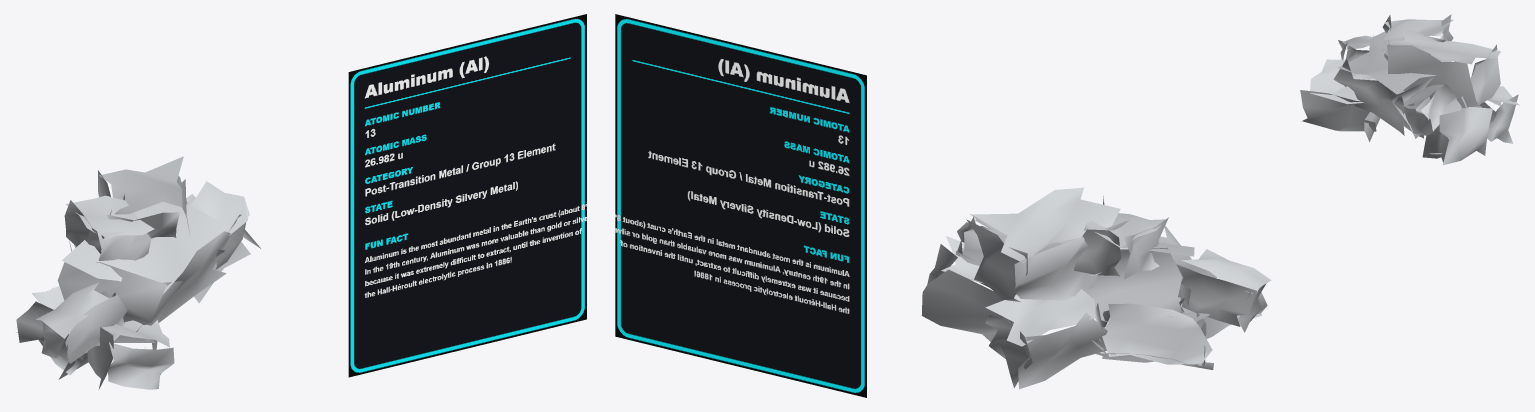
Rendered from aluminum.glb.
3 renders of one model, left to right at view 1: azimuth 30°, elevation 25°; view 2: azimuth 150°, elevation 25°; view 3: azimuth 270°, elevation 25°, orthographic. The views are drawn at different scales.
Parts seen in each view (by area): view 1: Mesh_10, Mesh_0, Mesh_8, Mesh_6, Mesh_2, Mesh_1, Mesh_7, Mesh_4, Mesh_3; view 2: Mesh_10, Mesh_1, Mesh_5, Mesh_4, Mesh_0, Mesh_3, Mesh_8, Mesh_6, Mesh_7, Mesh_2; view 3: Mesh_1, Mesh_0, Mesh_2, Mesh_3, Mesh_7, Mesh_6, Mesh_5, Mesh_8.
Part boxes in pixels (left/top/right/bottom): Mesh_10: left=348, top=14, right=586, bottom=377; Mesh_0: left=57, top=202, right=230, bottom=342; Mesh_8: left=35, top=282, right=127, bottom=363; Mesh_6: left=64, top=194, right=154, bottom=260; Mesh_2: left=87, top=320, right=174, bottom=389; Mesh_1: left=98, top=156, right=189, bottom=238; Mesh_7: left=189, top=181, right=249, bottom=269; Mesh_4: left=16, top=286, right=89, bottom=379; Mesh_3: left=175, top=194, right=260, bottom=303; Mesh_10: left=615, top=14, right=866, bottom=397; Mesh_1: left=966, top=187, right=1128, bottom=302; Mesh_5: left=985, top=289, right=1107, bottom=389; Mesh_4: left=1092, top=303, right=1213, bottom=369; Mesh_0: left=1003, top=225, right=1194, bottom=322; Mesh_3: left=921, top=236, right=1016, bottom=341; Mesh_8: left=1176, top=249, right=1271, bottom=332; Mesh_6: left=1074, top=213, right=1173, bottom=279; Mesh_7: left=955, top=213, right=1006, bottom=265; Mesh_2: left=1178, top=264, right=1262, bottom=338; Mesh_1: left=1384, top=27, right=1500, bottom=108; Mesh_0: left=1333, top=31, right=1451, bottom=138; Mesh_2: left=1300, top=59, right=1380, bottom=141; Mesh_3: left=1422, top=106, right=1492, bottom=165; Mesh_7: left=1403, top=83, right=1461, bottom=135; Mesh_6: left=1381, top=14, right=1453, bottom=60; Mesh_5: left=1479, top=86, right=1519, bottom=143; Mesh_8: left=1338, top=35, right=1376, bottom=80.
Size of the model in its own units: 2.77 by 1.4 by 1.12.
2 materials, 1 textured.
